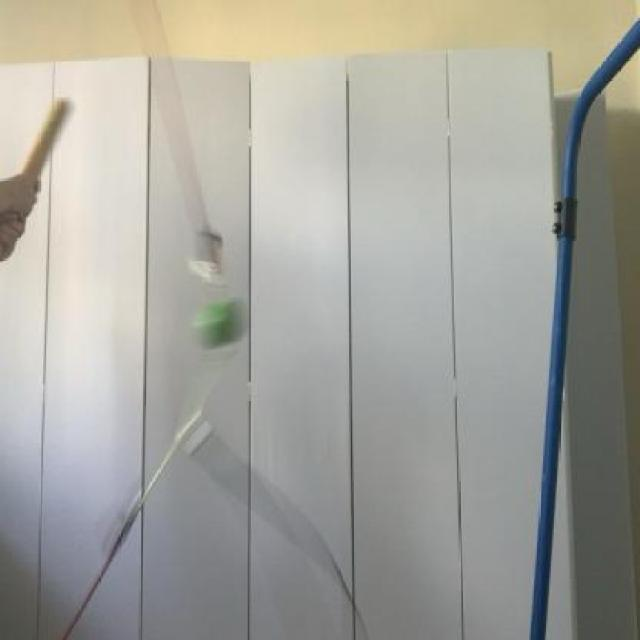baseball: (192, 288, 248, 350)
